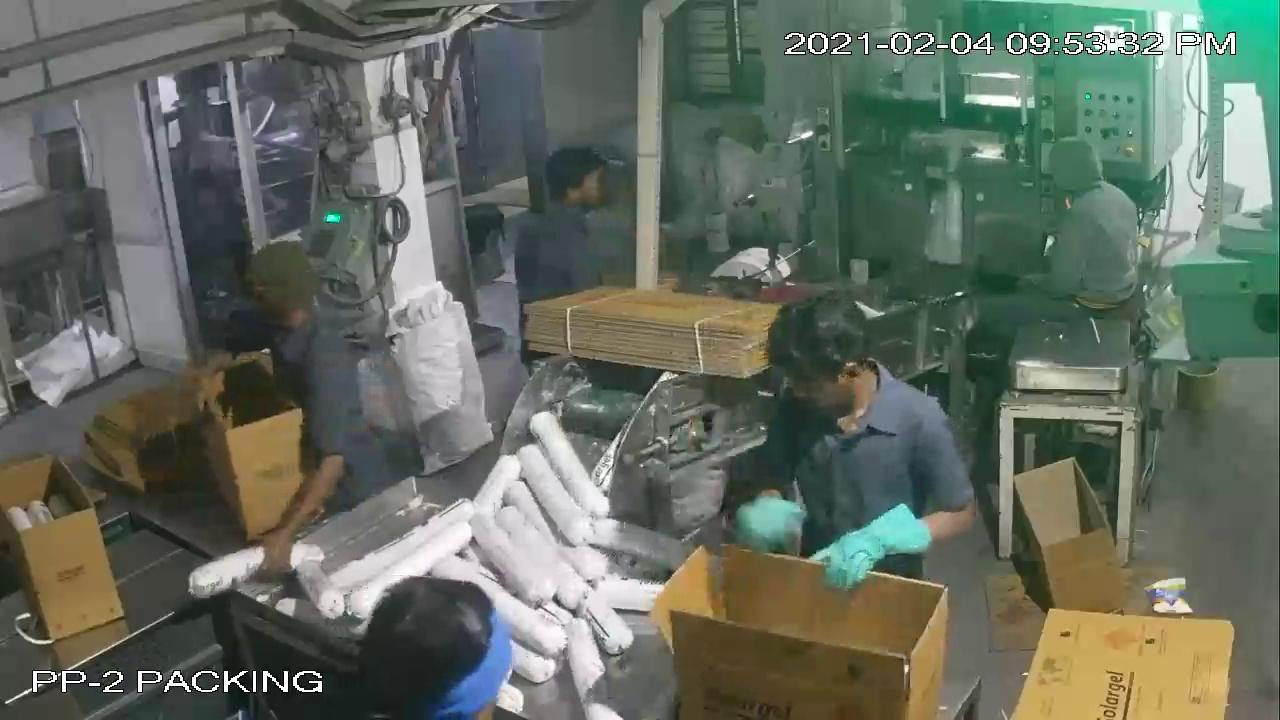Gloves: (820, 493, 936, 610), (722, 474, 797, 564)
No-gloves: (241, 430, 370, 580)
